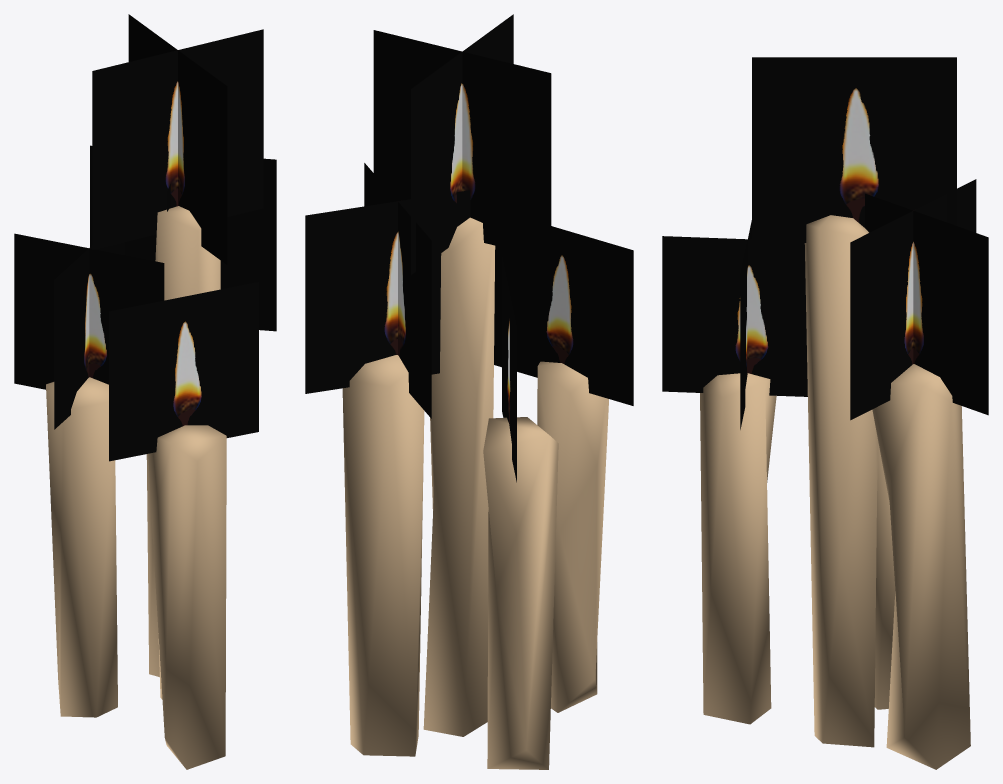
The model's file is SM_candle_set_04.fbx.
3 renders of one model, left to right at view 1: azimuth 30°, elevation 25°; view 2: azimuth 150°, elevation 25°; view 3: azimuth 270°, elevation 25°, orthographic. The views are drawn at different scales.
Visible parts, largest first — view 1: Candles_01; view 2: Candles_01; view 3: Candles_01.
Part boxes in pixels (box(x1,y1,x2,y2)): Candles_01: box(14, 14, 276, 769); Candles_01: box(305, 14, 633, 769); Candles_01: box(662, 57, 988, 769).
Size of the model in its own units: 7.25 by 20.39 by 8.89.
